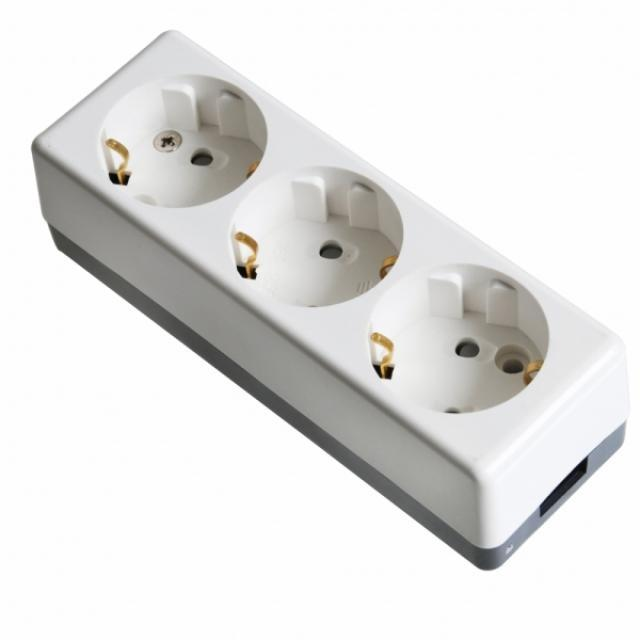typeb: (31, 23, 636, 587)
